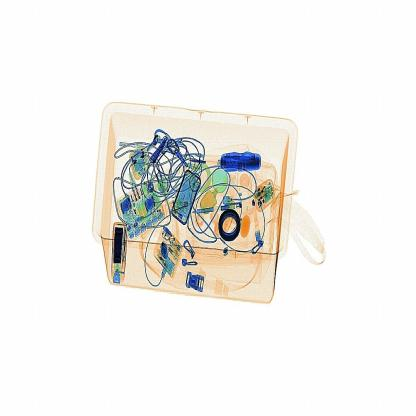scissors: (213, 140, 271, 182)
